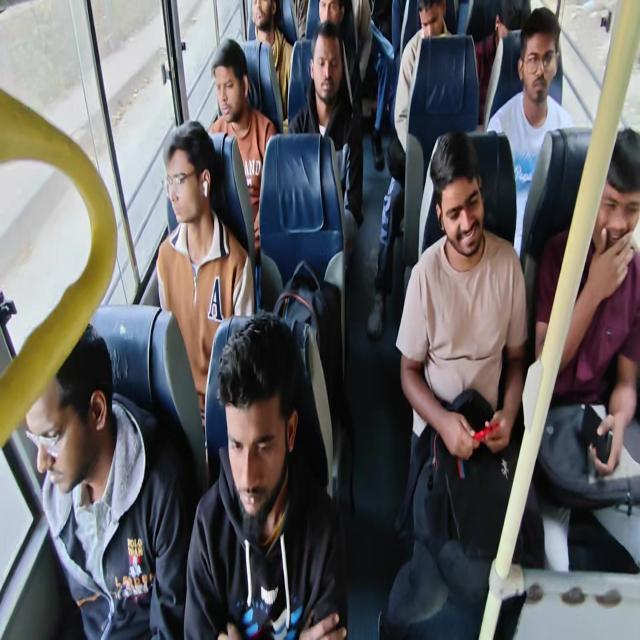person: (218, 330, 302, 531), (13, 342, 112, 489), (426, 140, 494, 274), (158, 127, 222, 237), (604, 136, 640, 280), (207, 27, 251, 134), (526, 3, 563, 118), (305, 30, 346, 119), (414, 0, 448, 42), (246, 0, 274, 40), (318, 0, 350, 35), (498, 6, 526, 35)
